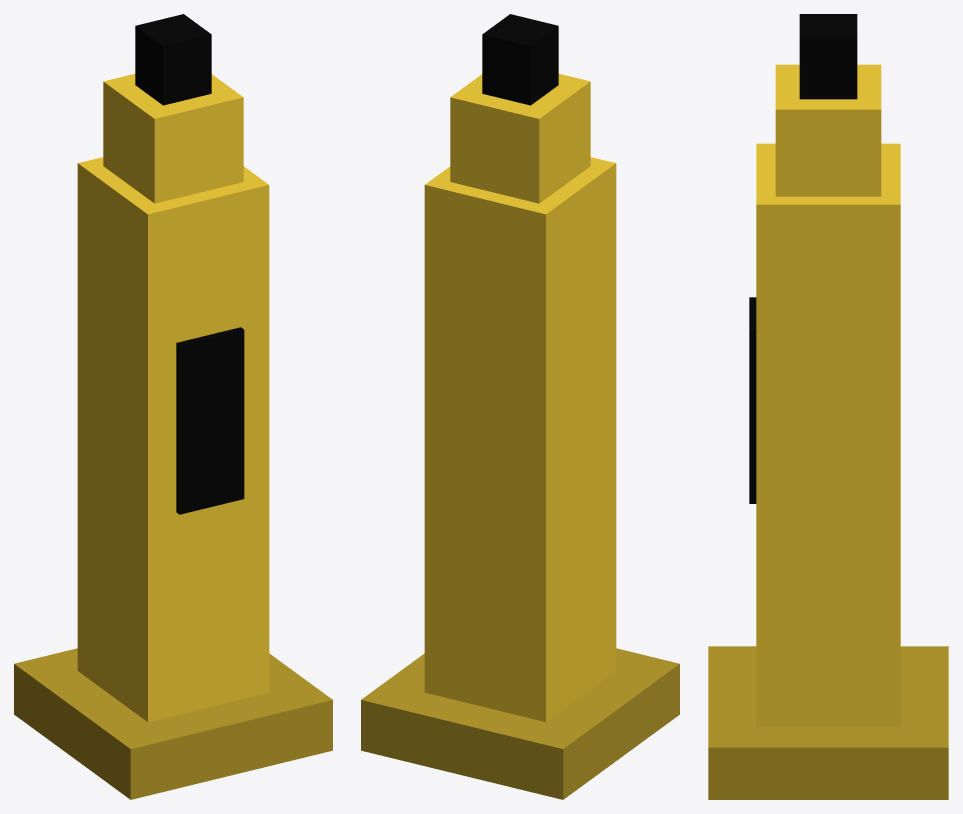
Rendered from Obelisk.obj.
3 views of the same model, side by side, from view 1: azimuth 30°, elevation 25°; view 2: azimuth 150°, elevation 25°; view 3: azimuth 270°, elevation 25° (orthographic). The views are drawn at different scales.
Parts seen in each view (by area): view 1: Obelisk; view 2: Obelisk; view 3: Obelisk.
Boxes of the visible parts, bbox=[...] form: Obelisk: bbox=[14, 14, 332, 799]; Obelisk: bbox=[361, 14, 679, 799]; Obelisk: bbox=[708, 14, 948, 799].
Size of the model in its own units: 5 by 16.6 by 5.
